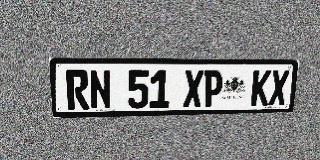1: (149, 70, 170, 108)
5: (128, 70, 149, 108)
K: (250, 70, 272, 106)
N: (89, 70, 111, 109)
P: (203, 70, 223, 107)
R: (65, 70, 89, 110)
X: (183, 70, 204, 107), (268, 70, 290, 105)
